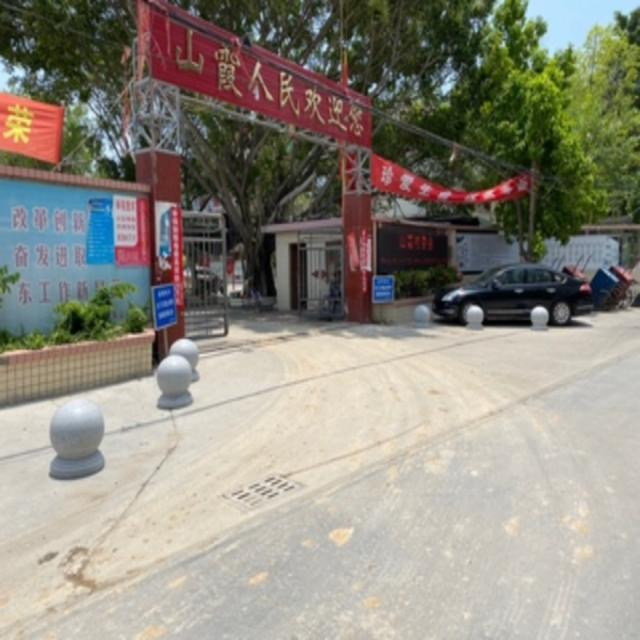car: (430, 260, 592, 324)
spherical_roadblock: (44, 395, 106, 478), (156, 350, 190, 405), (168, 335, 197, 380), (528, 300, 550, 330), (464, 301, 485, 328), (410, 301, 430, 328)
